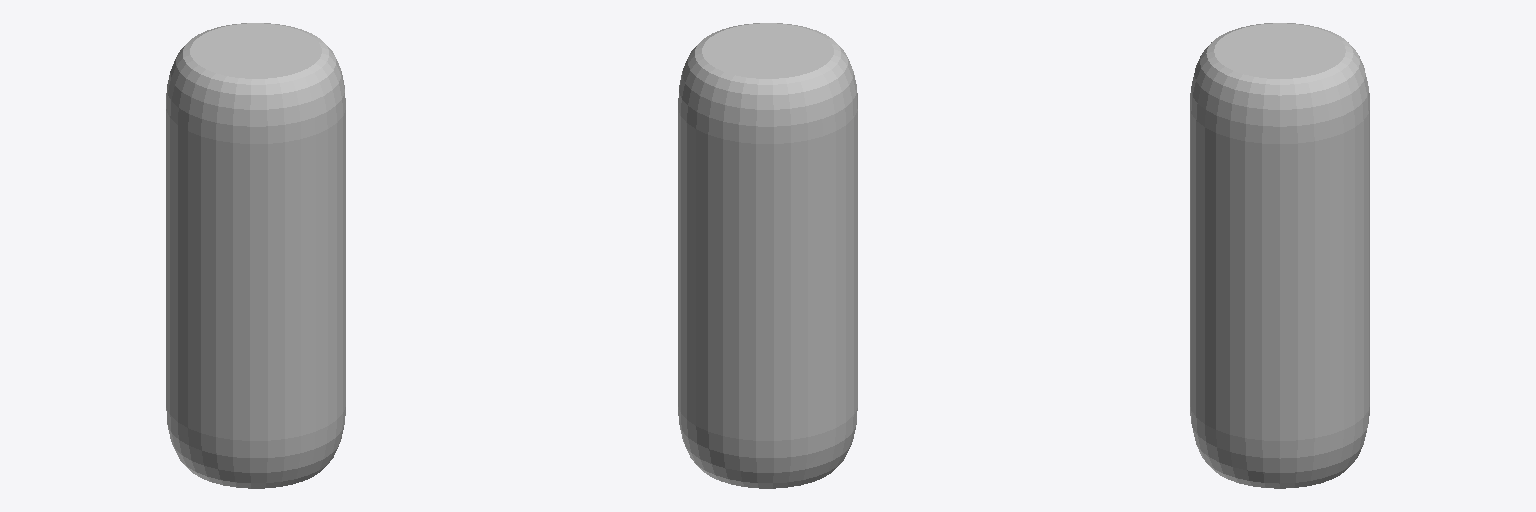
File: carrot.obj
3 views of the same model, side by side, from view 1: azimuth 30°, elevation 25°; view 2: azimuth 150°, elevation 25°; view 3: azimuth 270°, elevation 25° (orthographic).
Parts seen in each view (by area): view 1: Cylinder; view 2: Cylinder; view 3: Cylinder.
Part boxes in pixels (x1,y1,x2,y2): Cylinder: (166,23,345,488); Cylinder: (678,23,857,488); Cylinder: (1190,23,1369,488).
Size of the model in its own units: 0.8 by 2 by 0.8.